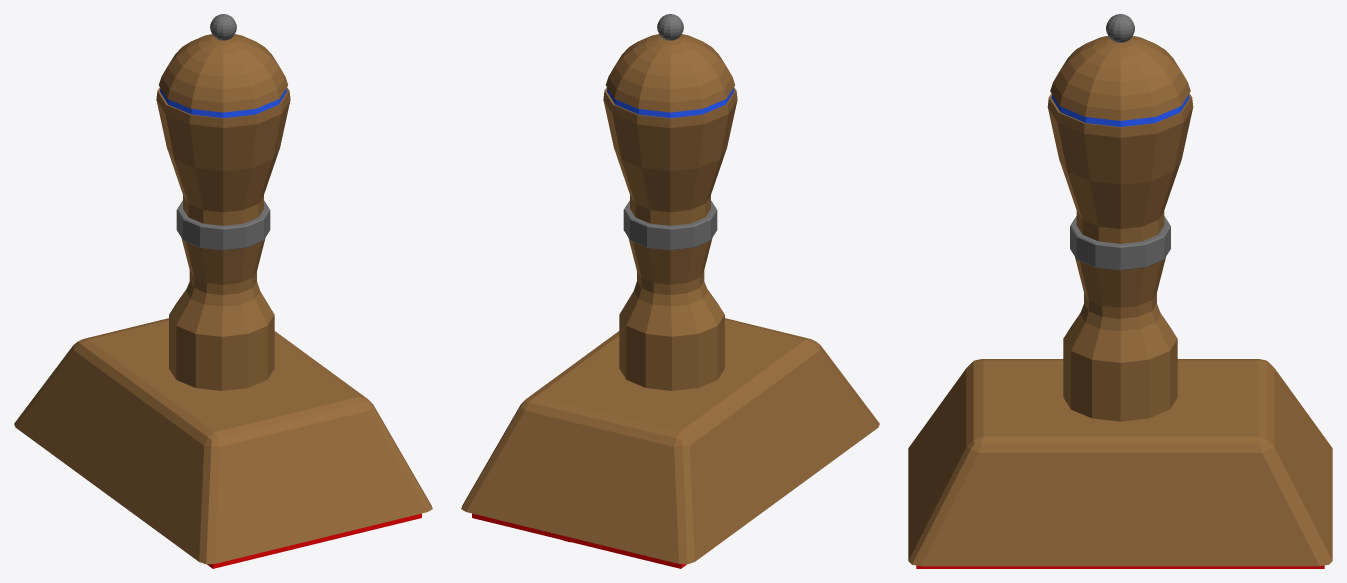
File: Stempel_Final.fbx
The picture shows the model from 3 angles, left to right: view 1: azimuth 30°, elevation 25°; view 2: azimuth 150°, elevation 25°; view 3: azimuth 270°, elevation 25°; orthographic projection. The views are drawn at different scales.
Parts seen in each view (by area): view 1: Cube.004; view 2: Cube.004; view 3: Cube.004.
Boxes of the visible parts, bbox=[...] form: Cube.004: bbox=[14, 14, 432, 568]; Cube.004: bbox=[461, 14, 879, 568]; Cube.004: bbox=[908, 14, 1332, 568].
Bounding box in the file's own units: 11.69 × 22.24 × 17.05.
